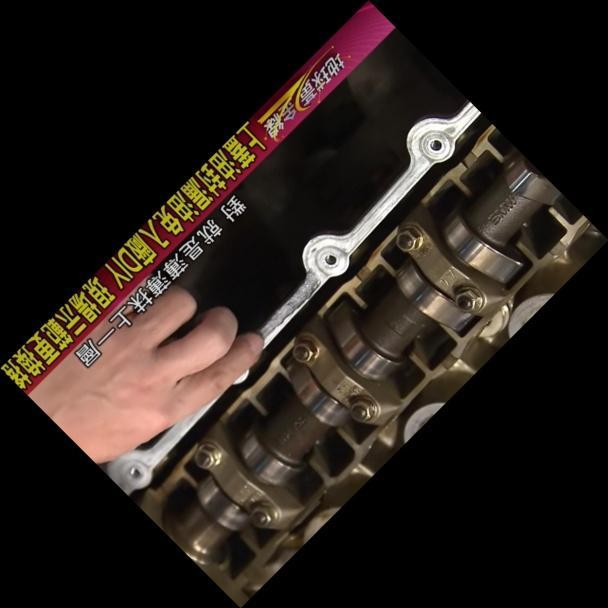hole: (423, 134, 445, 156), (320, 250, 339, 269)
